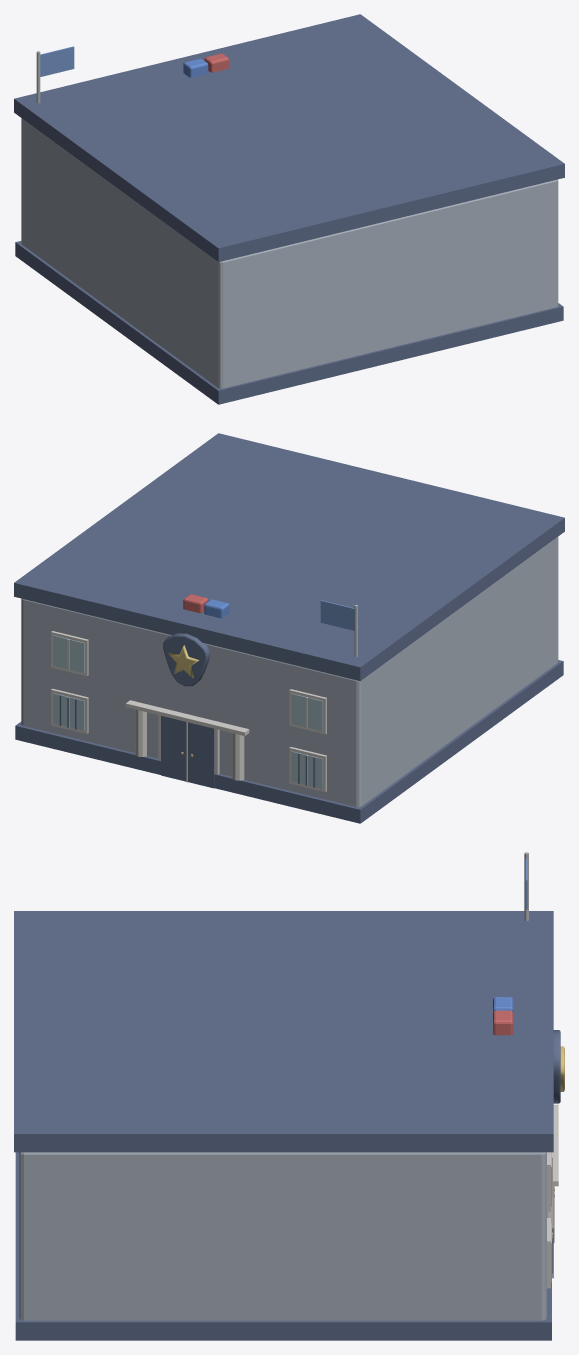
The model's file is centro-delegacia-89c89ff4.glb.
3 renders of one model, top to bottom at view 1: azimuth 30°, elevation 25°; view 2: azimuth 150°, elevation 25°; view 3: azimuth 270°, elevation 25°, orthographic. The views are drawn at different scales.
Visible parts, largest first — view 1: centro_delegacia_body, centro_delegacia_glow; view 2: centro_delegacia_body, centro_delegacia_glow; view 3: centro_delegacia_body, centro_delegacia_glow.
Part boxes in pixels (<box>): centro_delegacia_body: <box>14,14,564,404</box>; centro_delegacia_glow: <box>183,53,229,77</box>; centro_delegacia_body: <box>14,433,564,823</box>; centro_delegacia_glow: <box>163,594,229,686</box>; centro_delegacia_body: <box>14,852,558,1340</box>; centro_delegacia_glow: <box>493,997,564,1103</box>.
Bounding box in the file's own units: 15.7 × 9 × 16.39.
